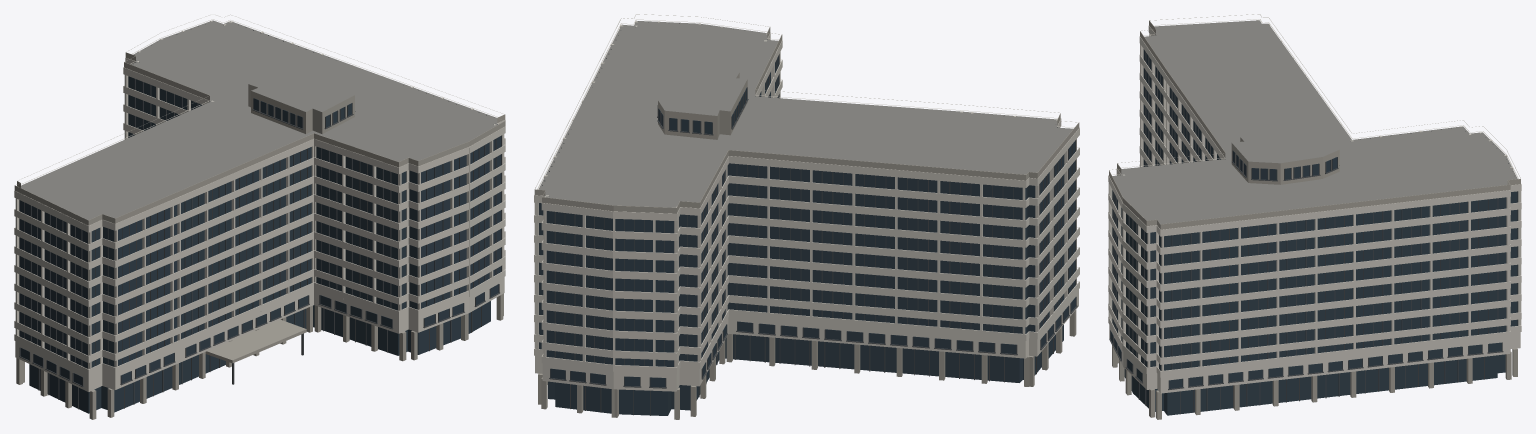
The model's file is royal_garden_hotel.glb.
The picture shows the model from 3 angles, left to right: view 1: azimuth 30°, elevation 25°; view 2: azimuth 150°, elevation 25°; view 3: azimuth 270°, elevation 25°; orthographic projection. The views are drawn at different scales.
Bounding box in the file's own units: 74.29 × 35.32 × 61.28.
